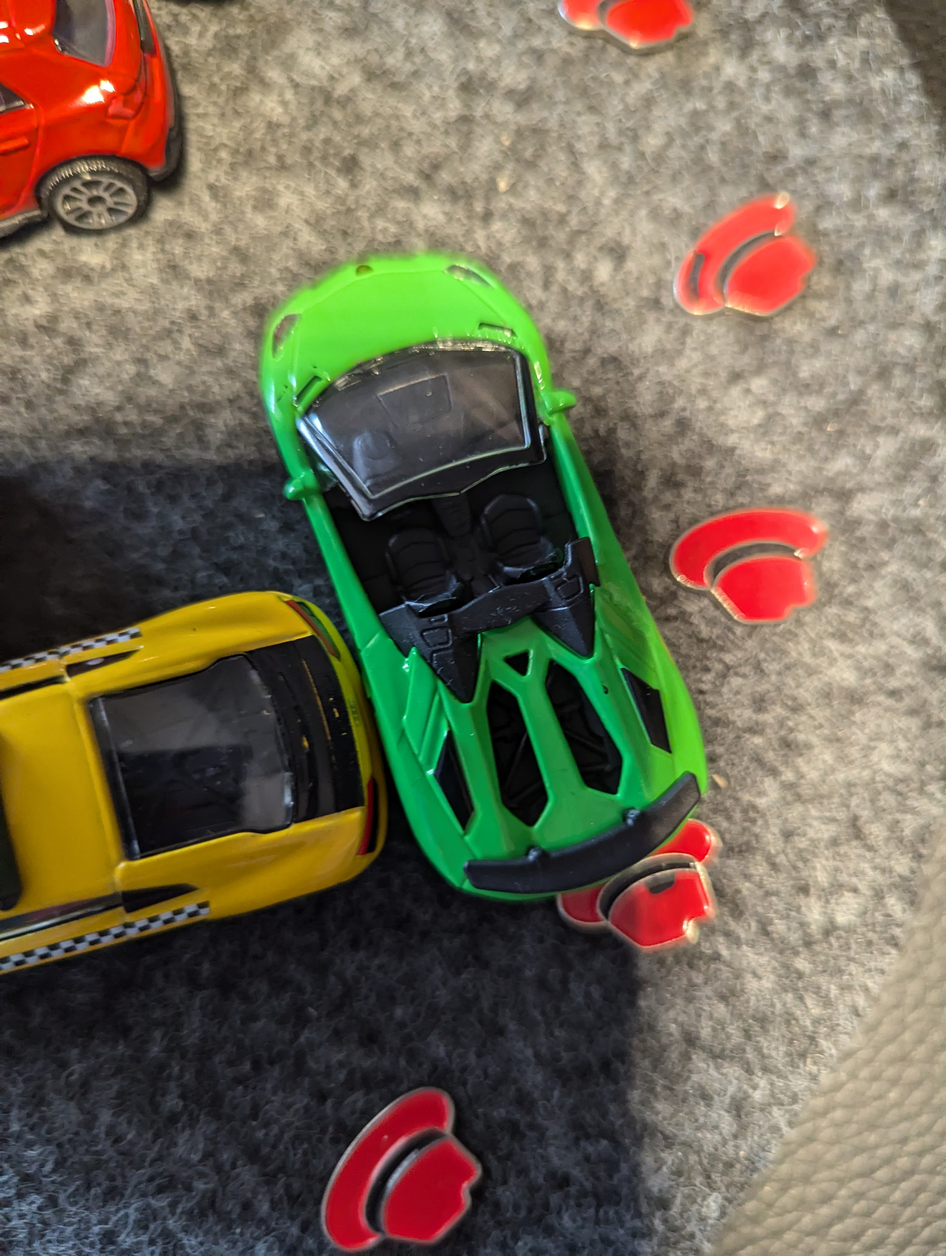Car: (231, 228, 730, 936), (0, 590, 390, 1022)
Red-Hat: (288, 1064, 494, 1256), (641, 481, 879, 644), (540, 801, 769, 964), (652, 176, 838, 348)
Scratch: (668, 235, 719, 309), (641, 854, 698, 901)
